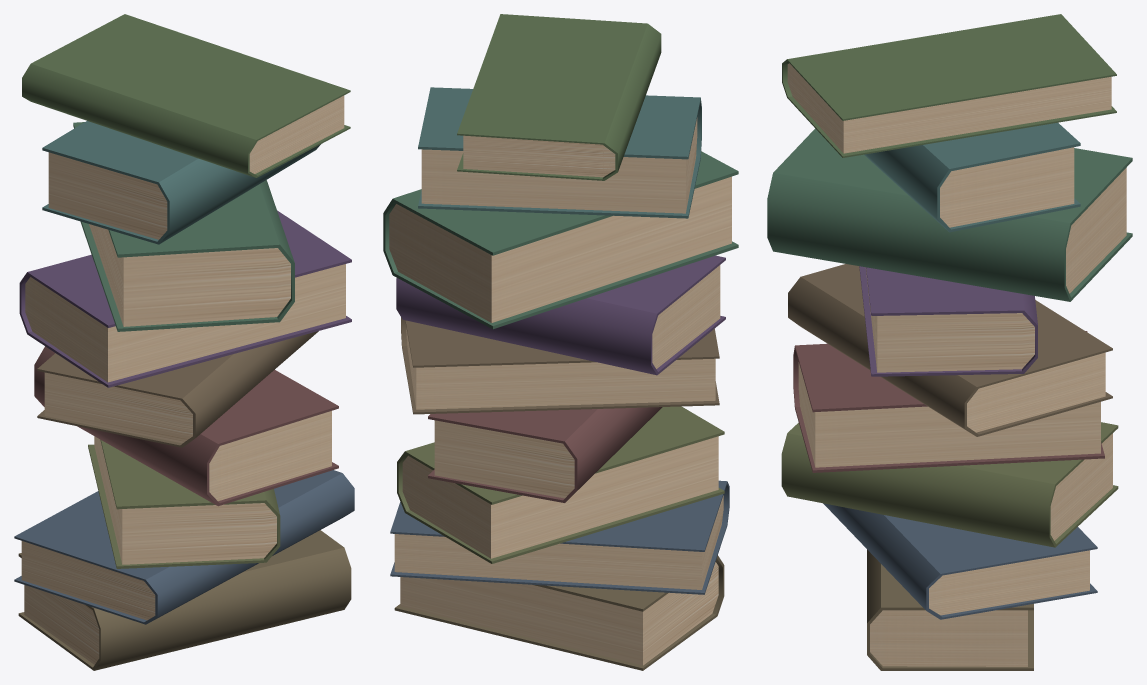
Rendered from bookStack.fbx.
The picture shows the model from 3 angles, left to right: view 1: azimuth 30°, elevation 25°; view 2: azimuth 150°, elevation 25°; view 3: azimuth 270°, elevation 25°; orthographic projection. The views are drawn at different scales.
Visible parts, largest first — view 1: Book47, Book45, Book44, Book39, Book40, Book46, Book42, Book41, Book43; view 2: Book45, Book47, Book41, Book46, Book43, Book39, Book40, Book44, Book42; view 3: Book45, Book47, Book42, Book41, Book43, Book40, Book44, Book46, Book39.
Part boxes in pixels (x1,y1,x2,y2): Book47: [22, 14, 350, 177]; Book45: [73, 122, 294, 331]; Book44: [19, 210, 351, 387]; Book39: [18, 530, 351, 670]; Book40: [14, 470, 354, 624]; Book46: [42, 121, 320, 244]; Book42: [34, 346, 338, 506]; Book41: [88, 436, 280, 568]; Book43: [37, 331, 318, 447]; Book45: [383, 151, 738, 329]; Book47: [457, 14, 661, 180]; Book41: [397, 406, 724, 563]; Book46: [418, 87, 701, 218]; Book43: [401, 317, 719, 414]; Book39: [394, 555, 724, 670]; Book40: [390, 480, 729, 594]; Book44: [396, 255, 725, 375]; Book42: [428, 407, 662, 502]; Book45: [767, 128, 1132, 301]; Book47: [782, 14, 1116, 157]; Book42: [793, 331, 1104, 472]; Book41: [781, 422, 1118, 547]; Book43: [788, 264, 1112, 436]; Book40: [823, 503, 1097, 619]; Book44: [859, 266, 1037, 376]; Book46: [864, 122, 1080, 232]; Book39: [867, 549, 1033, 670].
Bounding box in the file's own units: 5.32 × 8.62 × 5.23.
